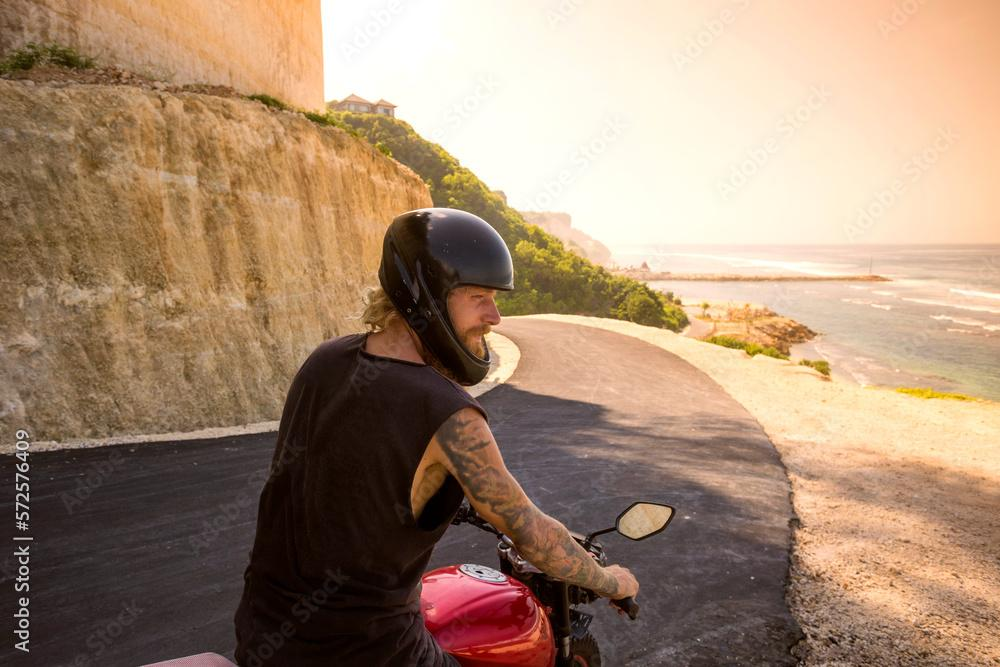helmet: (377, 205, 516, 388)
